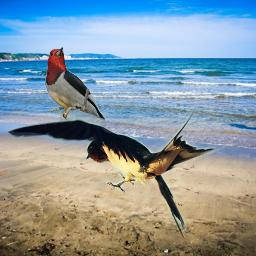Swallow: (3, 108, 254, 239)
Woodpecker: (42, 43, 110, 129)
